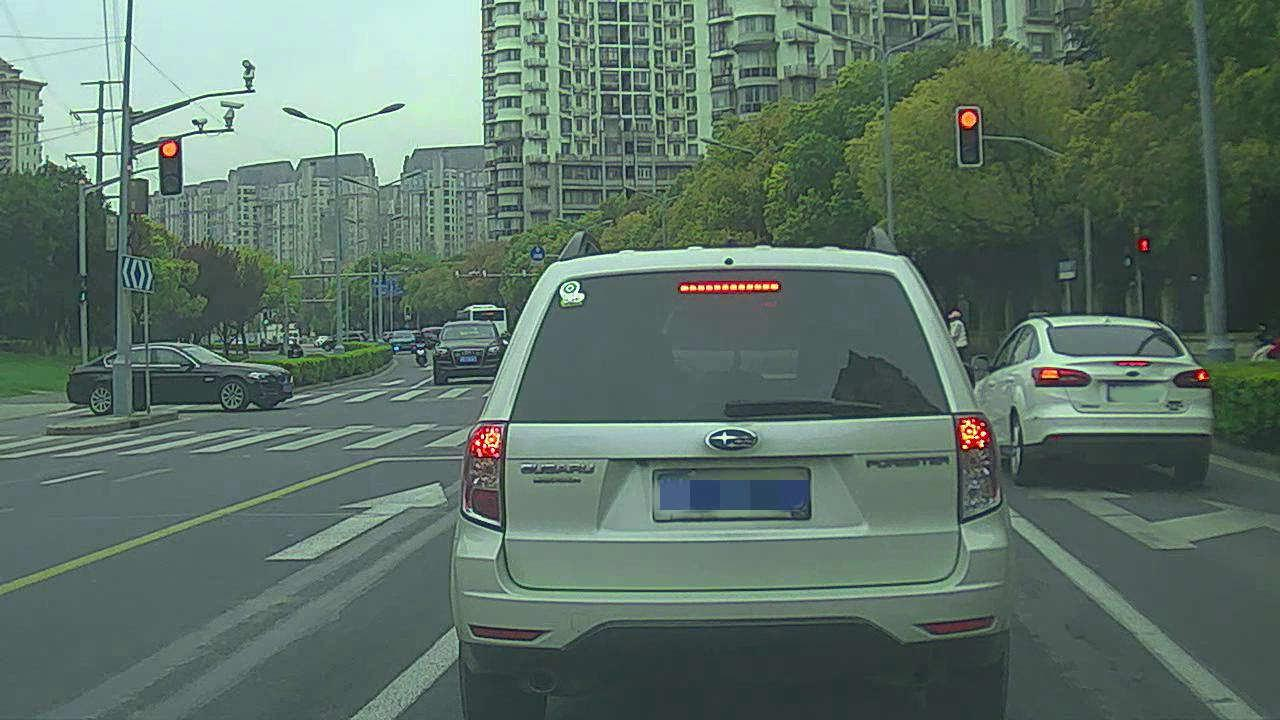traffic_light: (958, 108, 981, 169), (159, 137, 183, 195)
